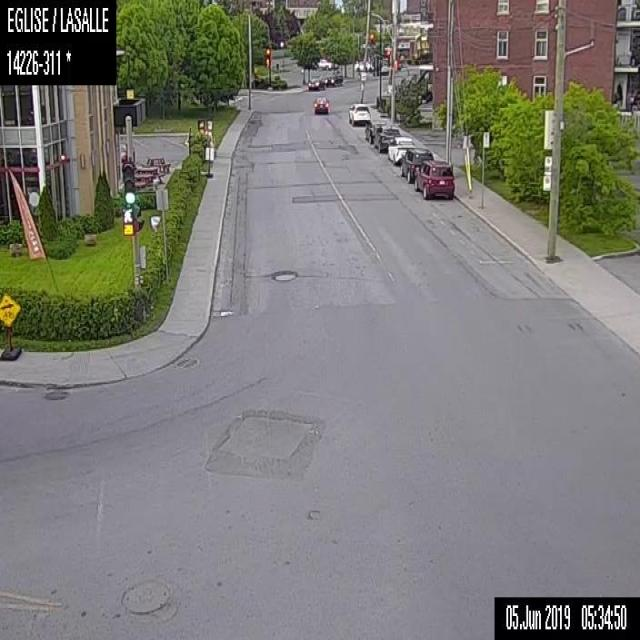vehicle: (413, 158, 455, 200), (399, 146, 432, 180), (386, 132, 413, 166), (373, 123, 399, 152), (346, 101, 371, 126), (322, 70, 342, 88), (312, 94, 329, 114), (308, 74, 322, 91)
